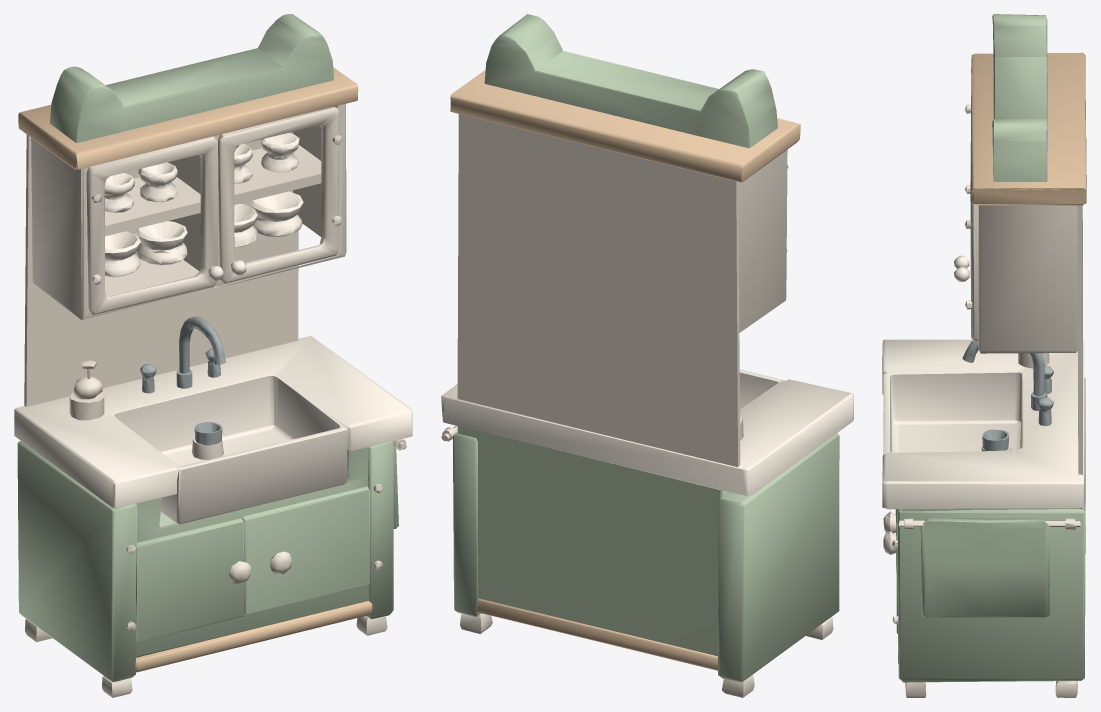
Rendered from kitchen_sink.glb.
The picture shows the model from 3 angles, left to right: view 1: azimuth 30°, elevation 25°; view 2: azimuth 150°, elevation 25°; view 3: azimuth 270°, elevation 25°; orthographic projection. The views are drawn at different scales.
Bounding box in the file's own units: 1.95 × 3.49 × 1.15.
